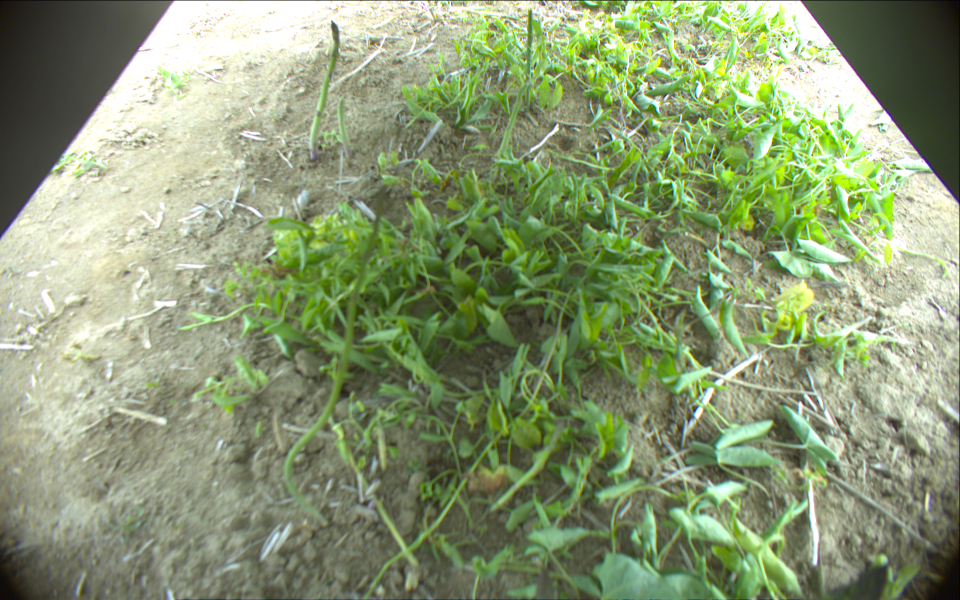aspa: (291, 197, 383, 530), (496, 9, 535, 159), (307, 20, 346, 163), (338, 96, 351, 159)
